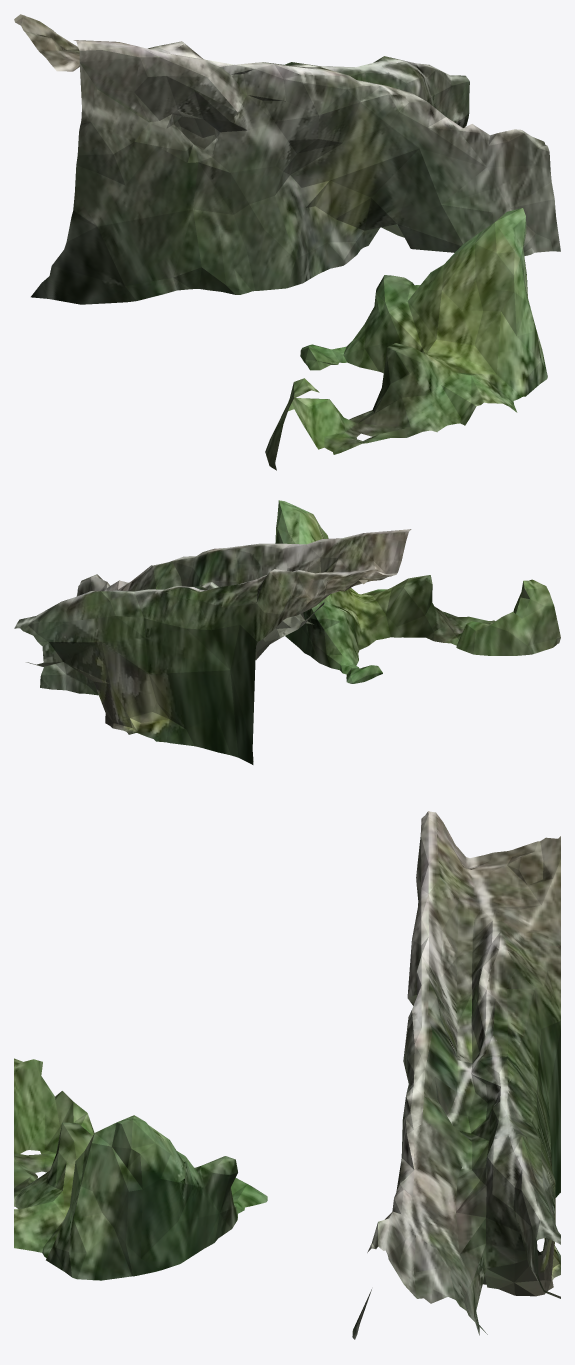
3 views of the same model, one above another, from view 1: azimuth 30°, elevation 25°; view 2: azimuth 150°, elevation 25°; view 3: azimuth 270°, elevation 25° (orthographic). The views are drawn at different scales.
Bounding box in the file's own units: 2.95 × 1.84 × 2.95.
Materials: 3 (3 with a texture image).
